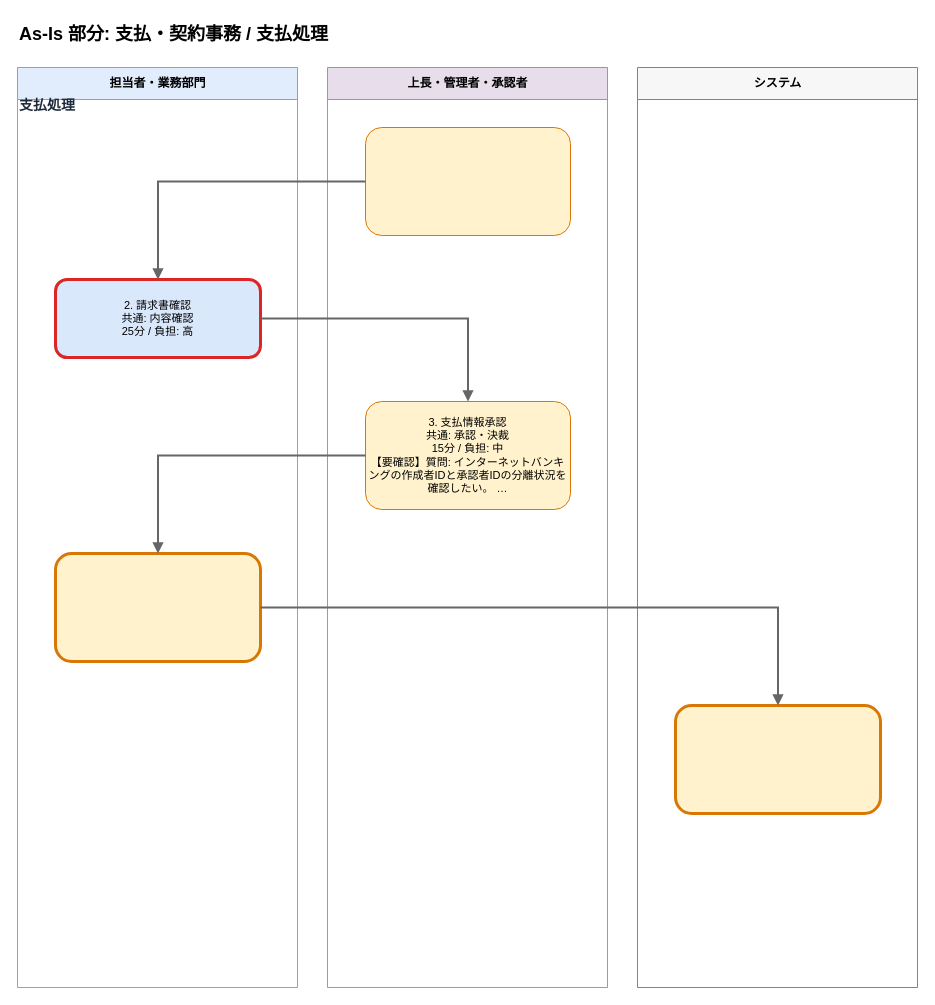
Image size: 935x1005. Some labels were removed from this diagram. Here are the shapes that lost their labels. From the top down, the centre of each, then its label:
At (x=467, y=181): "1. 購入・支払起案 共通: 受付・起案 20分 / 負担: 中 【要確認】質問: 少額支払の事前承認省略ルールを確認したい。 / 回答例: 担当者が作成し、…".
At (x=158, y=607): "4. 振込実行 共通: 実行・支払 20分 / 負担: 高 【要確認】質問: 振込実行後の結果確認と再振込時の承認手順を確認したい。 / 回答例: 担当…".
At (x=778, y=759): "5. 支払伝票入力 共通: システム入力 15分 / 負担: 高 【要確認】質問: 支払データと会計伝票の連携可否を確認したい。 / 回答例: CSVで出力し…".
